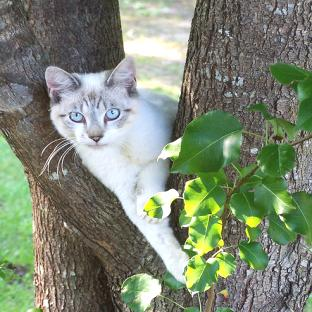Animal: (45, 57, 188, 282)
